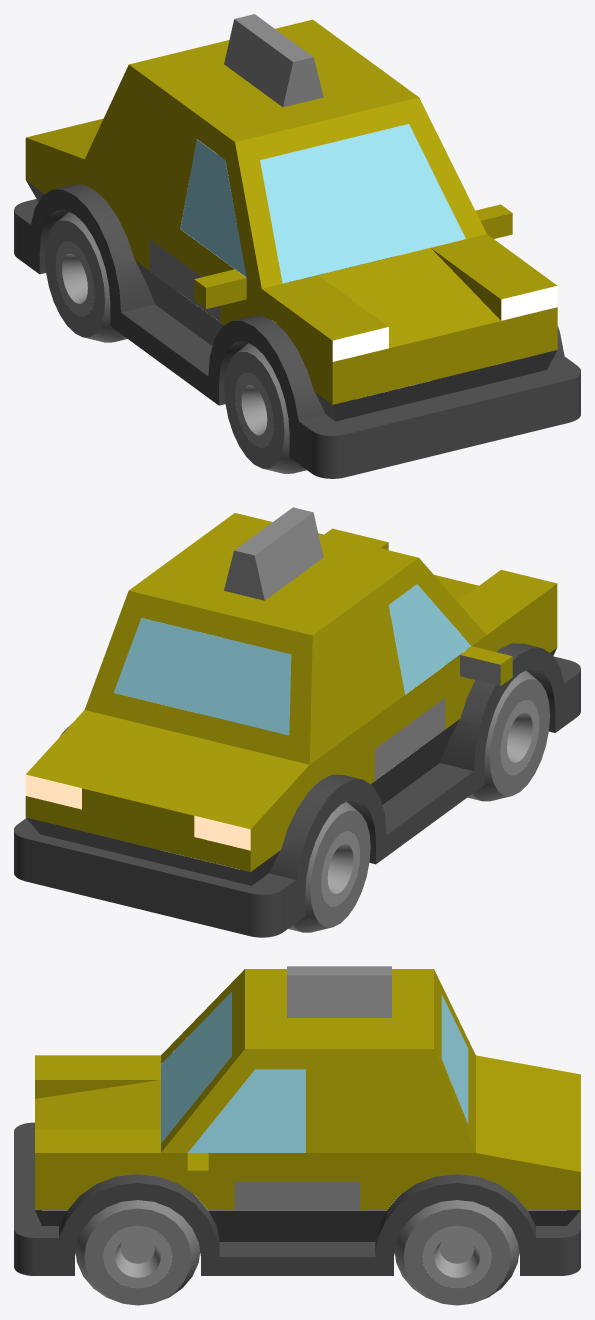
Rendered from car-taxi.glb.
The picture shows the model from 3 angles, top to bottom: view 1: azimuth 30°, elevation 25°; view 2: azimuth 150°, elevation 25°; view 3: azimuth 270°, elevation 25°; orthographic projection. The views are drawn at different scales.
Visible parts, largest first — view 1: body, wheel_backRight, wheel_frontRight; view 2: body, wheel_frontRight, wheel_backRight; view 3: body, wheel_backLeft, wheel_frontLeft.
Boxes of the visible parts, <box> form: body: <box>14,14,580,478</box>; wheel_backRight: <box>45,212,165,342</box>; wheel_frontRight: <box>224,343,347,473</box>; body: <box>14,507,580,937</box>; wheel_frontRight: <box>435,670,549,801</box>; wheel_backRight: <box>246,801,370,932</box>; body: <box>14,966,580,1275</box>; wheel_backLeft: <box>394,1174,519,1305</box>; wheel_frontLeft: <box>75,1174,200,1305</box>.
Size of the model in its own units: 1.95 by 1.95 by 3.51.
